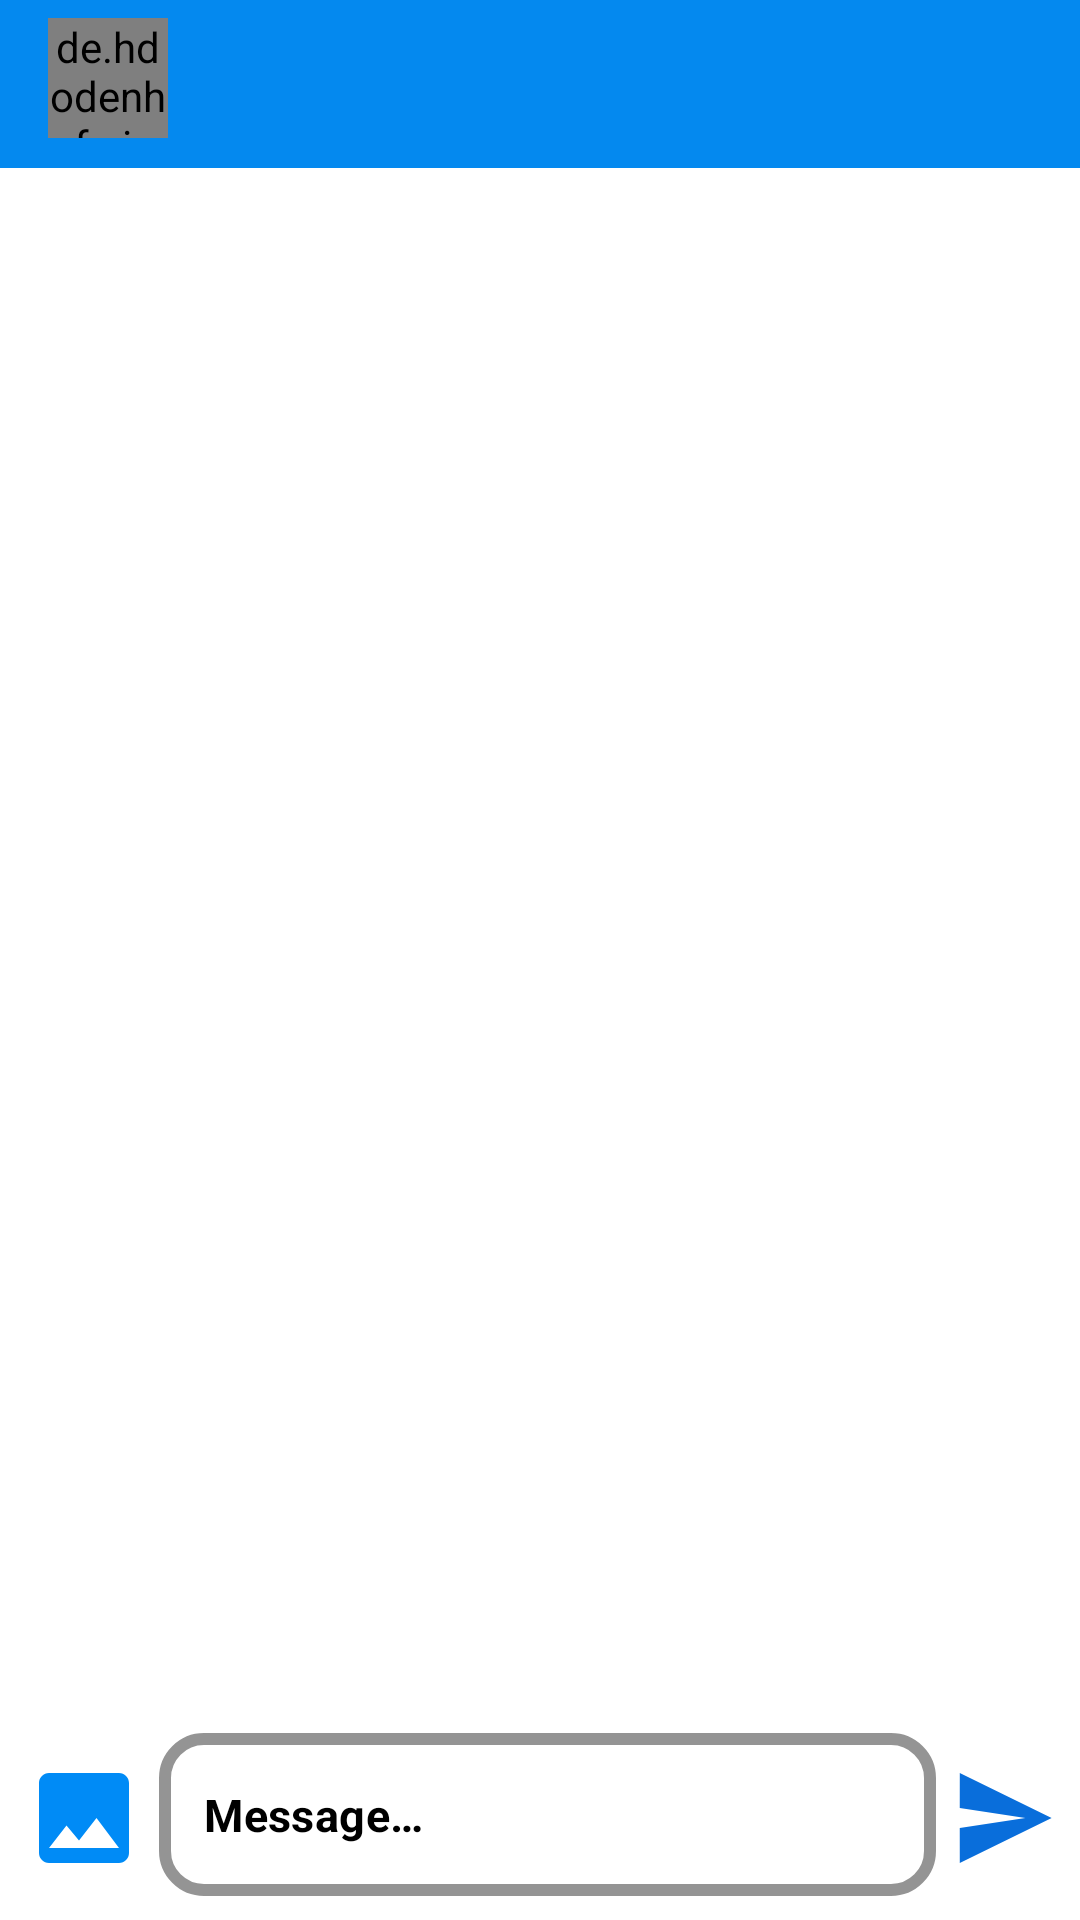

Locate icon controls on the screen. Image size 1080px x 1920px, boxes as detection(x1, y1, x2, y2).
photo: detection(39, 1773, 129, 1863)
send: detection(959, 1773, 1051, 1863)
